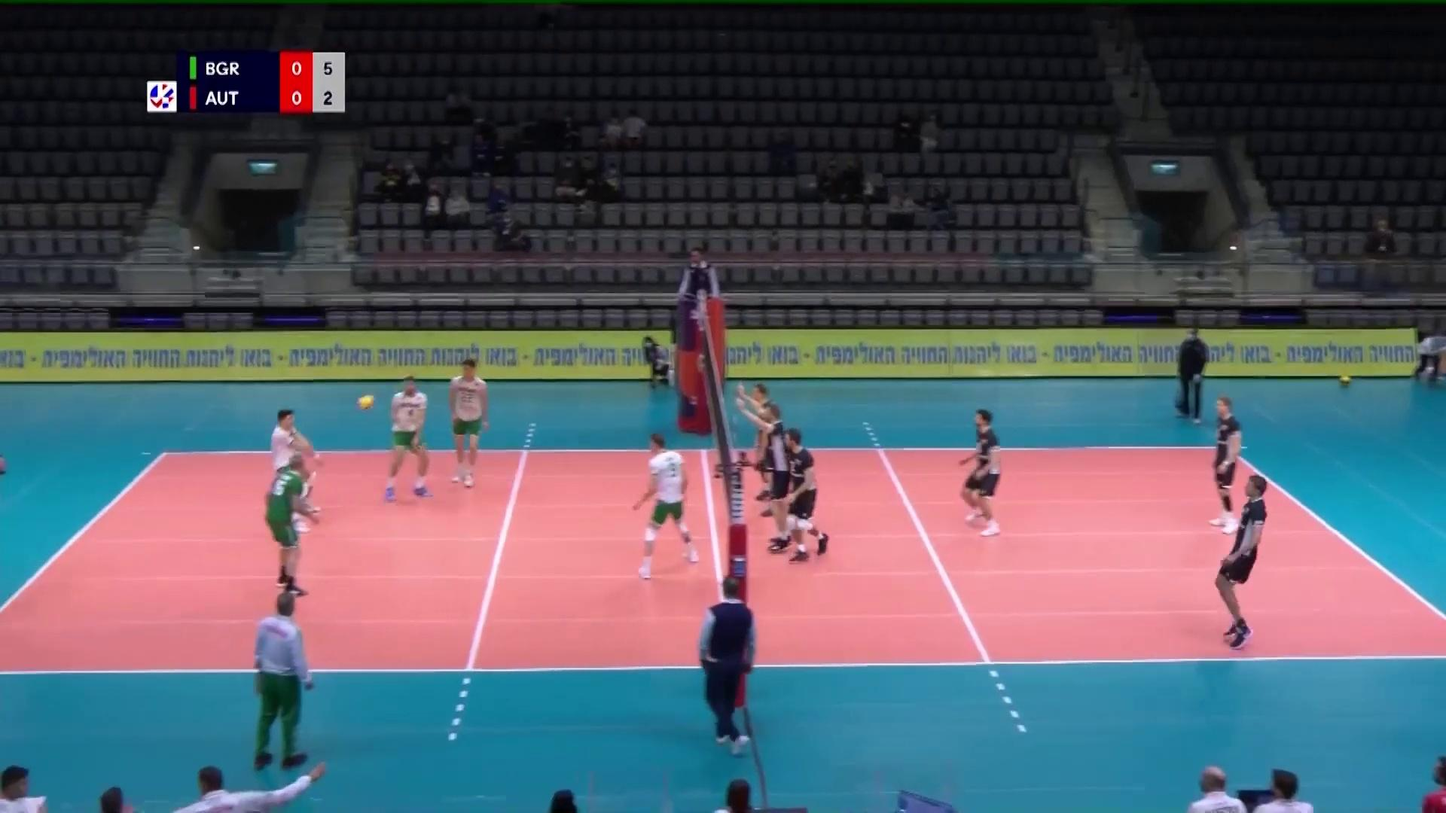ball: (356, 394, 376, 410)
